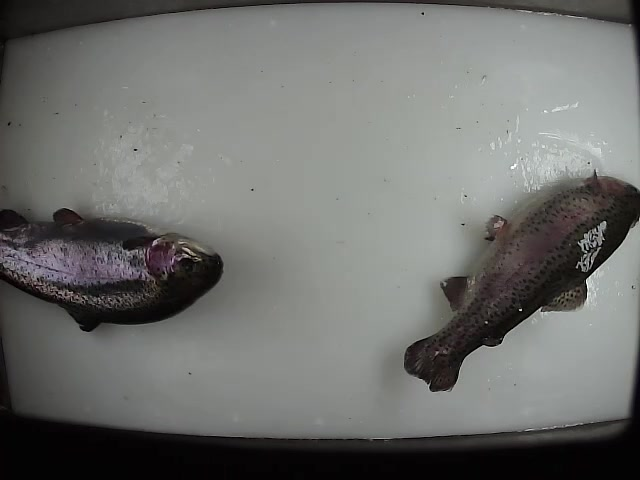Fish: (400, 169, 638, 392)
